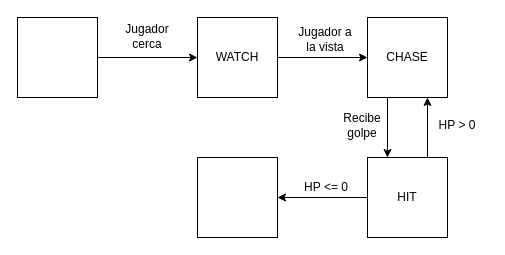
Some shapes in this 505 by 255 pixel diagram are drawn without their labels. Each missing label, with the box of its shape:
DEAD: (196, 156, 278, 238)
SLEEP: (16, 16, 98, 98)
